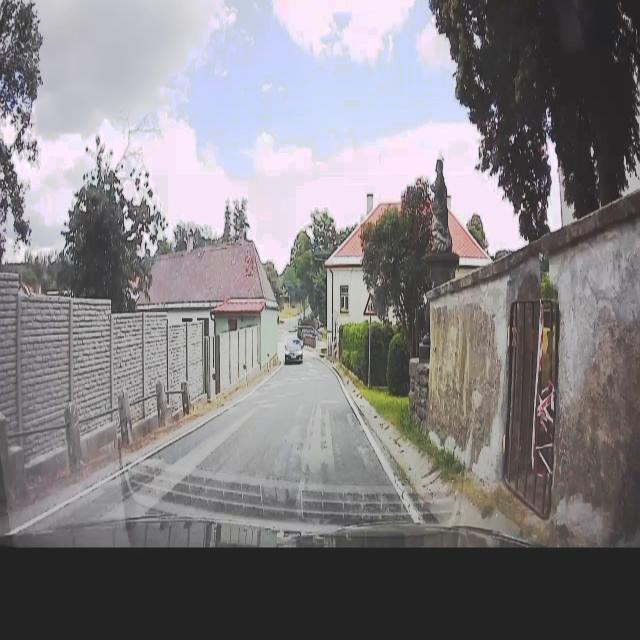Priority road: (332, 309, 340, 321)
